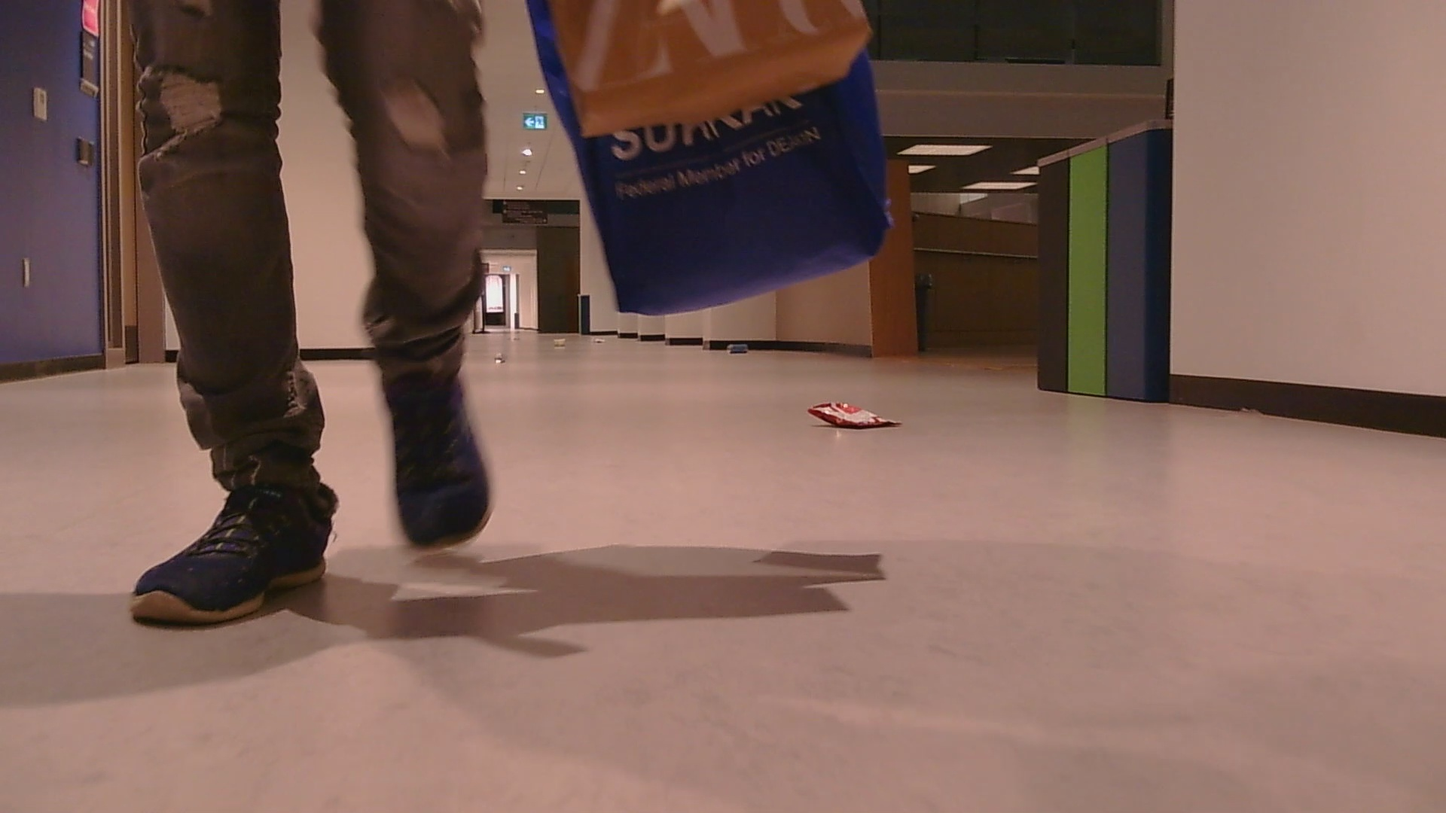carton: (812, 388, 906, 442)
